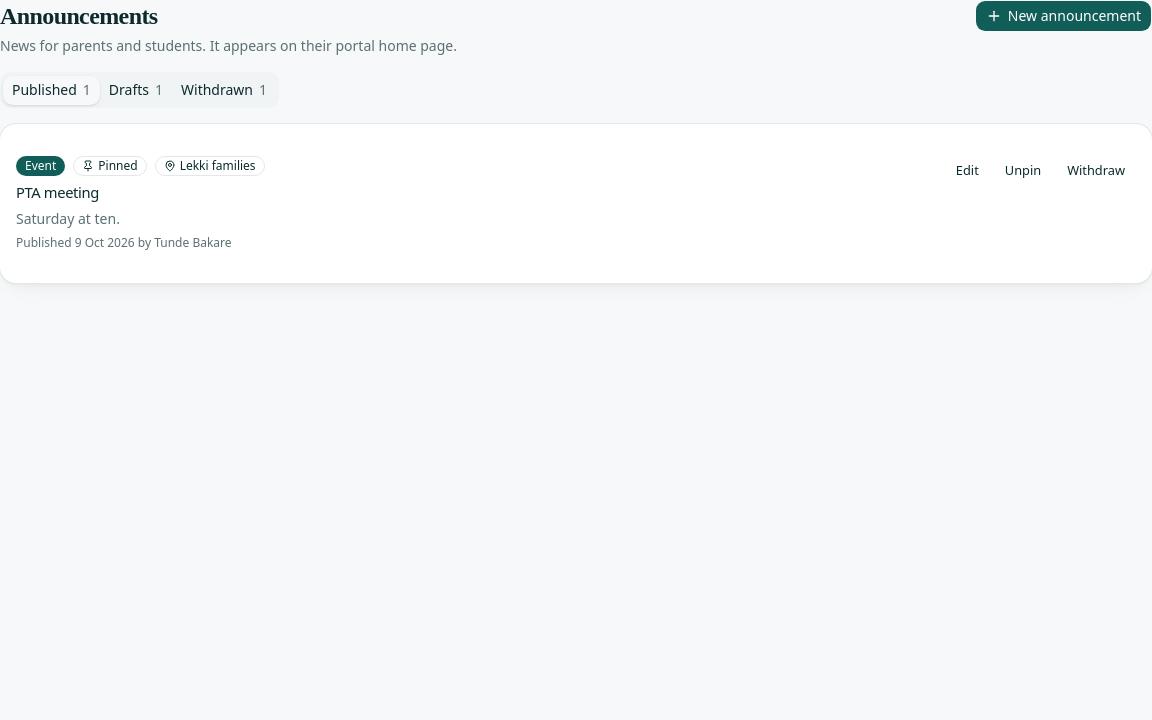
Scenario: AnnouncementsPage editor › offers Save as draft and Publish on a new announcement
Click the button "New announcement": point(1063, 16) [975,0,1151,32]
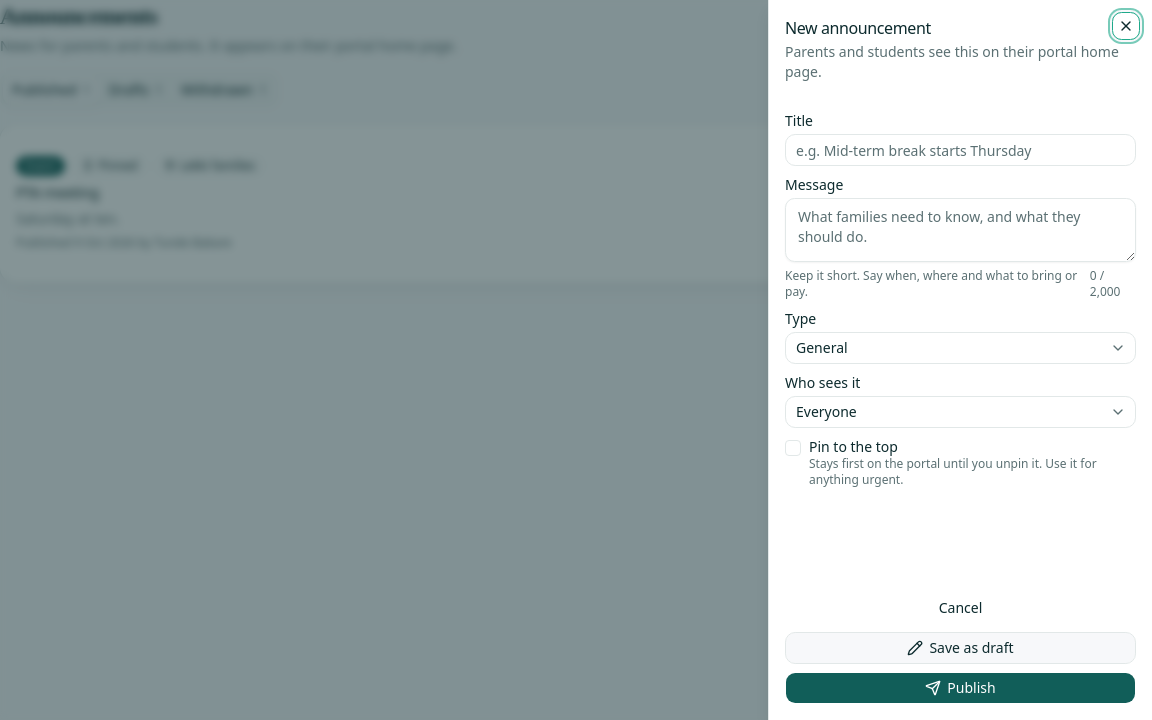
Check: the dialog shows "New announcement", box [785,17,931,39]
Check: the button "Save as draft" is shown, box [785,632,1136,664]
Check: the button "Publish" is shown, box [785,672,1136,704]
